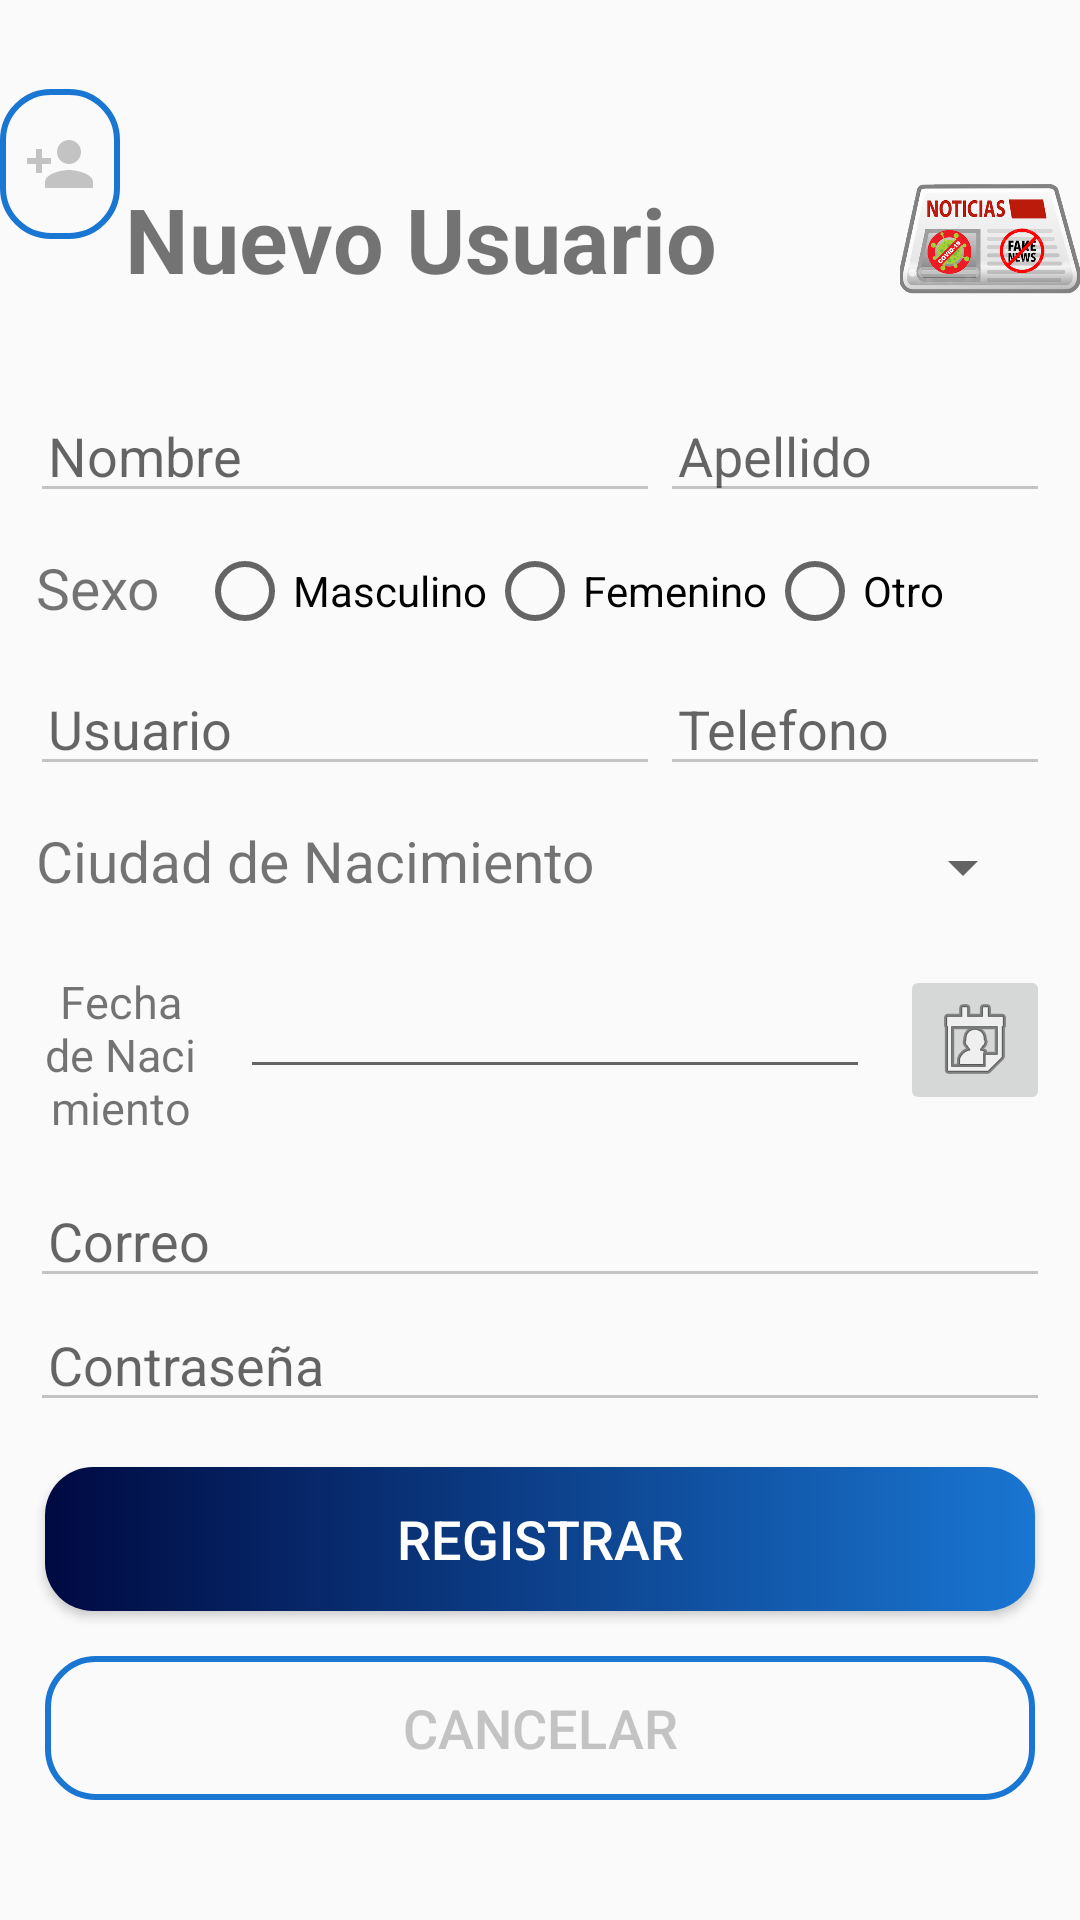

Named icons in this screenshot (1080x1920) and their centers, point (x, y):
calendar: point (975, 1040)
person add: point (60, 164)
